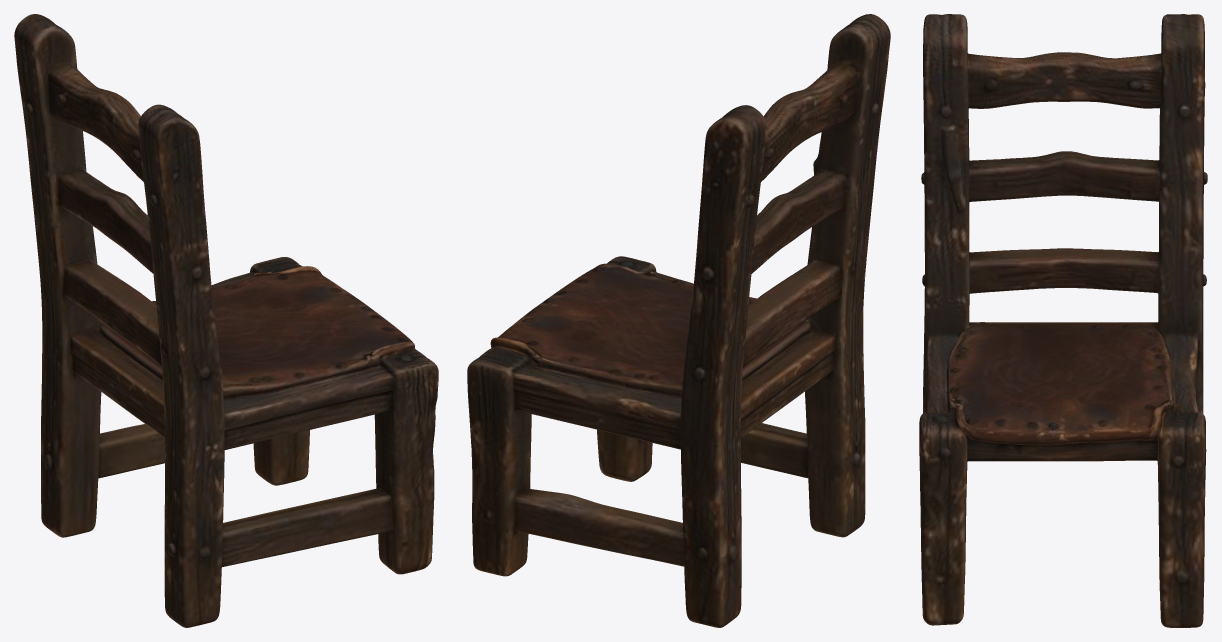
Rendered from 带椅背方椅子.glb.
3 renders of one model, left to right at view 1: azimuth 30°, elevation 25°; view 2: azimuth 150°, elevation 25°; view 3: azimuth 270°, elevation 25°, orthographic. The views are drawn at different scales.
Parts seen in each view (by area): view 1: tripo_node_26e0d5a3-b424-46fd-9aae-73ab01aef6b7; view 2: tripo_node_26e0d5a3-b424-46fd-9aae-73ab01aef6b7; view 3: tripo_node_26e0d5a3-b424-46fd-9aae-73ab01aef6b7.
Part boxes in pixels (<box>): tripo_node_26e0d5a3-b424-46fd-9aae-73ab01aef6b7: <box>14,14,438,627</box>; tripo_node_26e0d5a3-b424-46fd-9aae-73ab01aef6b7: <box>467,14,890,627</box>; tripo_node_26e0d5a3-b424-46fd-9aae-73ab01aef6b7: <box>919,14,1207,627</box>.
Size of the model in its own units: 0.5789 by 0.9999 by 0.5297.
1 material, 1 textured.
